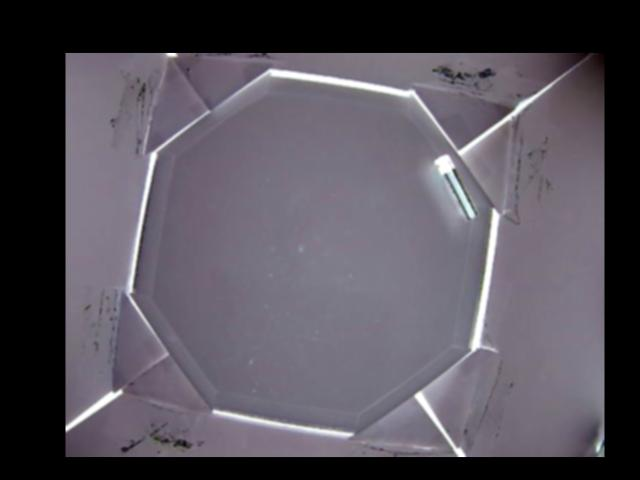Battery: (433, 154, 478, 221)
